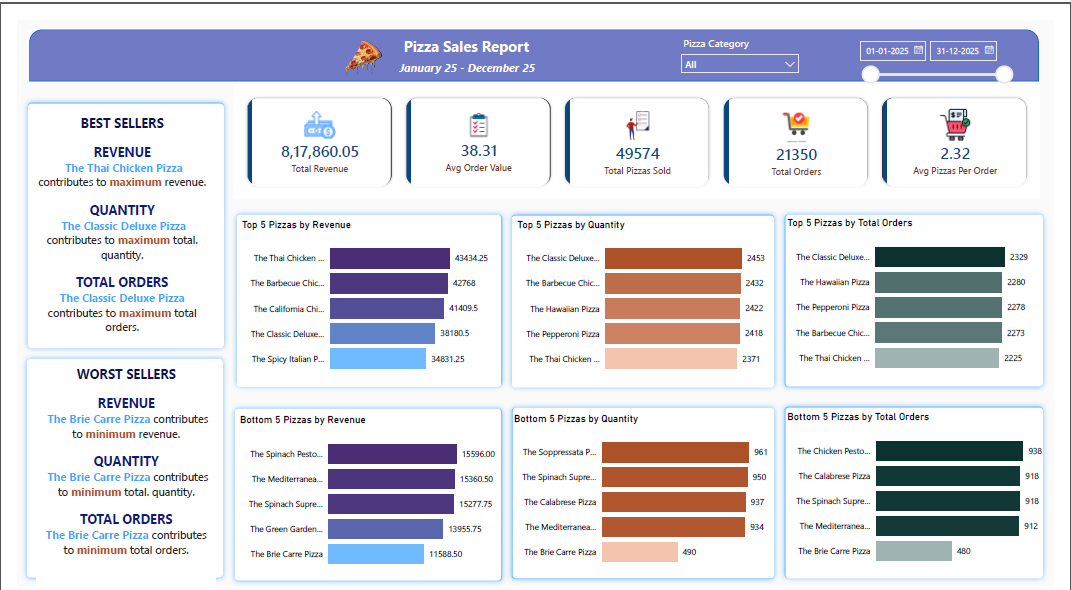

What the dashboard file says about the page in this screenshot:
{"tool":"powerbi","page":{"name":"Top & Bottom Sellers","canvas":[1500,820],"ordinal":1},"visuals":[{"type":"cardVisual","fields":{"Data":["pizza_sales.Total Revenue","pizza_sales.Avg Order Value","pizza_sales.Total Pizzas Sold","pizza_sales.Total Orders","pizza_sales.Avg Pizzas Per Order"]},"box":[308.7,88,1180.1,174.6],"z":0},{"type":"shape","box":[17.3,13,1461.4,75],"z":1000},{"type":"image","box":[458.2,26.9,85.6,57],"z":2000},{"type":"shape","box":[307.1,554.3,401.4,264.3],"z":3000},{"type":"shape","box":[708.8,552.5,395,263.8],"z":4000},{"type":"shape","box":[1104.3,552.2,389.1,263.3],"z":5000},{"type":"shape","box":[7.5,111.9,300,370.1],"z":6000},{"type":"textbox","box":[17.9,129.9,267.2,352.2],"z":7000},{"type":"shape","box":[6,482.1,300,332.8],"z":8000},{"type":"textbox","box":[28.4,494,258.2,323.9],"z":9000},{"type":"slicer","title":"Pizza Size","fields":{"Values":["pizza_sales.pizza_category"]},"box":[950.7,17.3,190.4,63.5],"z":10000},{"type":"slicer","title":"Pizza Size","fields":{"Values":["pizza_sales.order_date"]},"box":[1206.5,19.7,243.7,78.6],"z":11000},{"type":"shape","box":[310,272.9,398.6,264.3],"z":12000},{"type":"shape","box":[707.5,273.8,396.2,265],"z":13000},{"type":"shape","box":[1104.3,273.1,389.1,265.3],"z":14000},{"type":"barChart","title":"Top 5 Pizzas by Revenue","fields":{"Y":["pizza_sales.Total Revenue"],"Category":["pizza_sales.pizza_name"]},"box":[320,287.1,375.7,237.1],"z":15000},{"type":"barChart","title":"Bottom 5 Pizzas by Revenue","fields":{"Y":["pizza_sales.Total Revenue"],"Category":["pizza_sales.pizza_name"]},"box":[317.1,570,378.6,237.1],"z":16000},{"type":"barChart","title":"Top 5 Pizzas by Quantity","fields":{"Y":["pizza_sales.Total Pizzas Sold"],"Category":["pizza_sales.pizza_name"]},"box":[718.6,287.1,378.6,237.1],"z":17000},{"type":"barChart","title":"Bottom 5 Pizzas by Quantity","fields":{"Y":["pizza_sales.Total Pizzas Sold"],"Category":["pizza_sales.pizza_name"]},"box":[713.8,567.5,378.7,236.2],"z":18000},{"type":"barChart","title":"Top 5 Pizzas by Total Orders","fields":{"Y":["pizza_sales.Total Orders"],"Category":["pizza_sales.pizza_name"]},"box":[1110.2,284.9,377.3,237.7],"z":19000},{"type":"barChart","title":"Bottom 5 Pizzas by Total Orders","fields":{"Y":["pizza_sales.Total Orders"],"Category":["pizza_sales.pizza_name"]},"box":[1110.2,565.9,379.2,235.8],"z":20000},{"type":"textbox","box":[553.9,18.5,201.4,42],"z":21000},{"type":"textbox","box":[548.2,53.4,219.3,33.2],"z":22000}]}

Visuals, with their boxes in screenshot pixels (x1, y1, x2, y2), scaled from the page's 1500x820 canvas onto the 1071x590 screenshot:
cardVisual - pizza_sales.Total Revenue x pizza_sales.Avg Order Value: x1=220, y1=63, x2=1063, y2=189
shape: x1=12, y1=9, x2=1056, y2=63
image: x1=327, y1=19, x2=388, y2=60
shape: x1=219, y1=399, x2=506, y2=589
shape: x1=506, y1=398, x2=788, y2=587
shape: x1=788, y1=397, x2=1066, y2=587
shape: x1=5, y1=81, x2=220, y2=347
textbox: x1=13, y1=93, x2=204, y2=347
shape: x1=4, y1=347, x2=218, y2=586
textbox: x1=20, y1=355, x2=205, y2=588
"Pizza Size" slicer: x1=679, y1=12, x2=815, y2=58
"Pizza Size" slicer: x1=861, y1=14, x2=1035, y2=71
shape: x1=221, y1=196, x2=506, y2=387
shape: x1=505, y1=197, x2=788, y2=388
shape: x1=788, y1=196, x2=1066, y2=387
"Top 5 Pizzas by Revenue" barChart: x1=228, y1=207, x2=497, y2=377
"Bottom 5 Pizzas by Revenue" barChart: x1=226, y1=410, x2=497, y2=581
"Top 5 Pizzas by Quantity" barChart: x1=513, y1=207, x2=783, y2=377
"Bottom 5 Pizzas by Quantity" barChart: x1=510, y1=408, x2=780, y2=578
"Top 5 Pizzas by Total Orders" barChart: x1=793, y1=205, x2=1062, y2=376
"Bottom 5 Pizzas by Total Orders" barChart: x1=793, y1=407, x2=1063, y2=577
textbox: x1=395, y1=13, x2=539, y2=44
textbox: x1=391, y1=38, x2=548, y2=62
